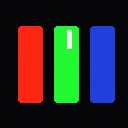4 line_v: (67, 30, 71, 48)
